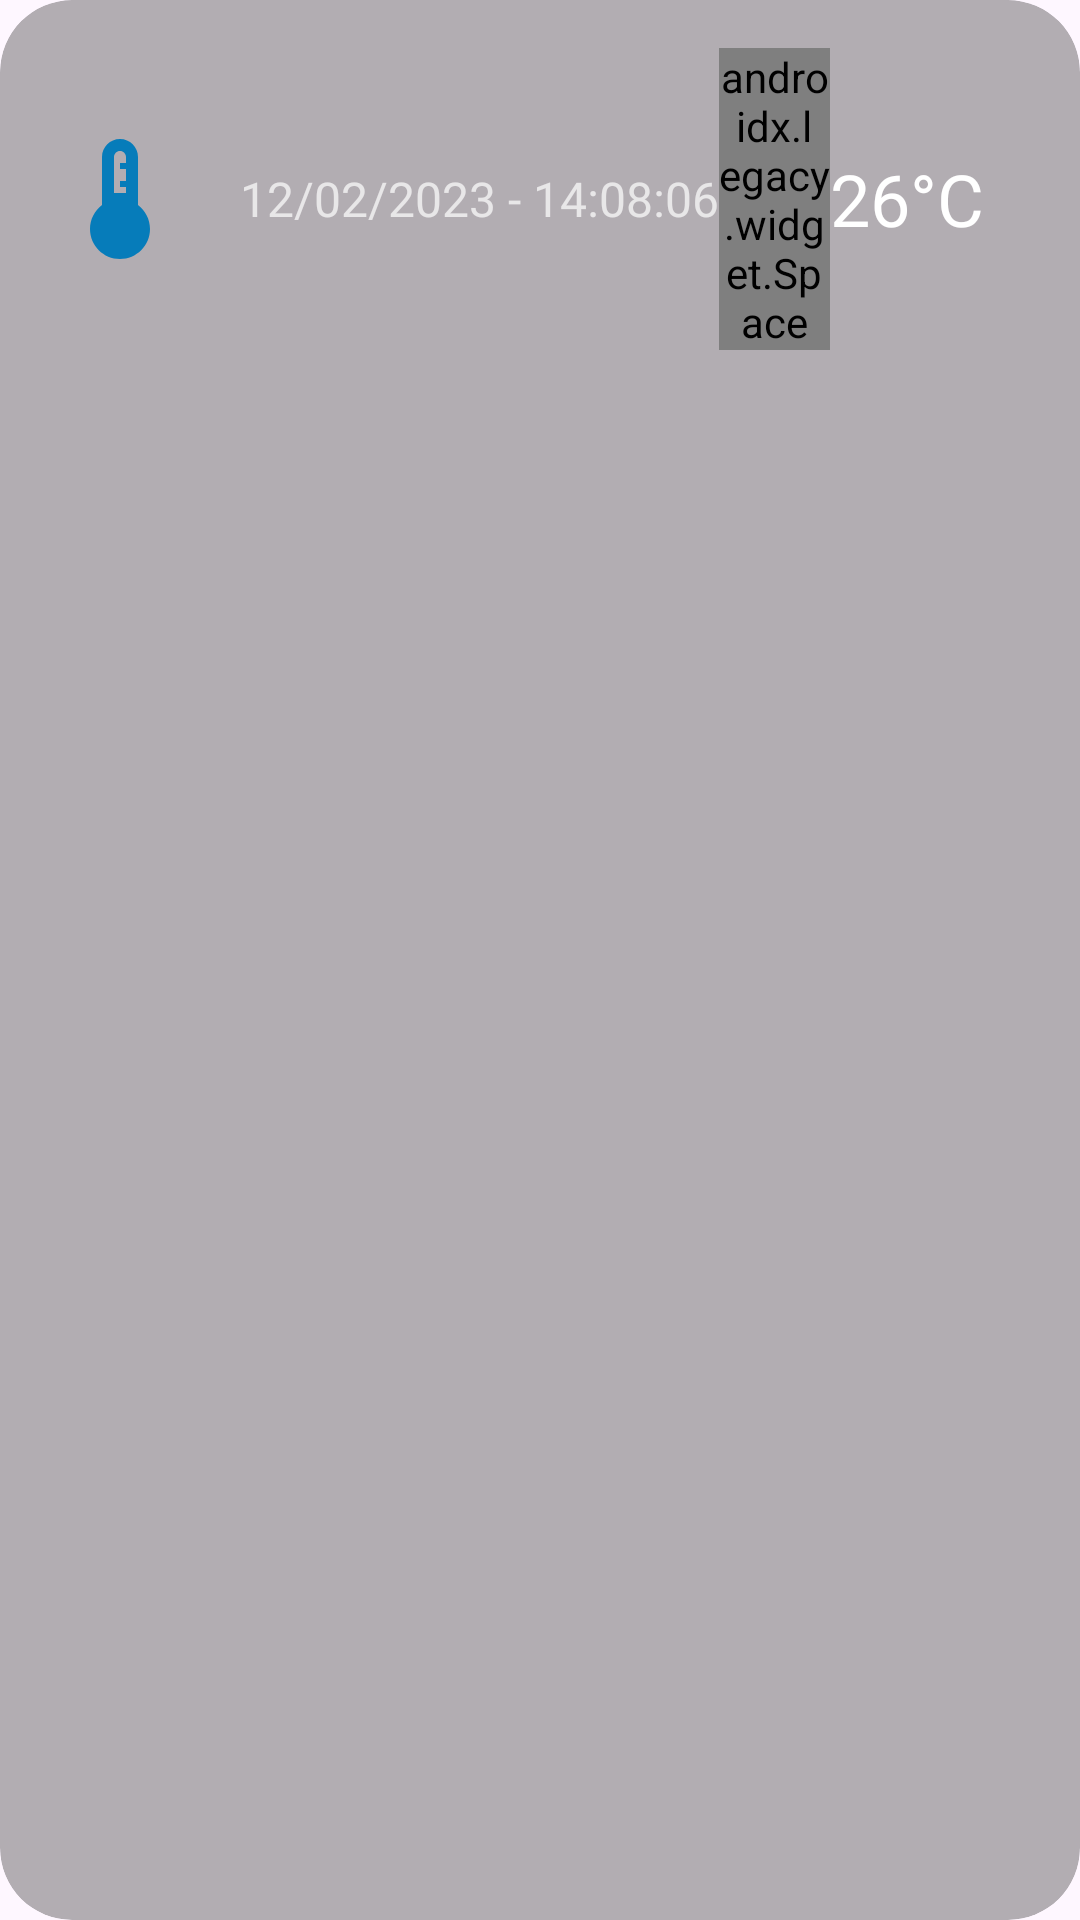

Point at icon controls on the screen. Image size 1080 x 1920, points as point (x, y).
thermostat blu: point (120, 199)
